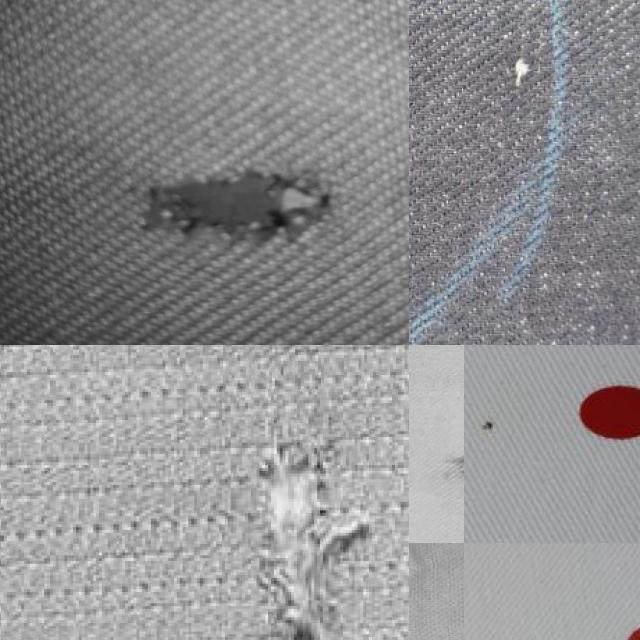Hole: (464, 391, 515, 463)
Thread_other: (409, 0, 485, 202)
seam: (91, 99, 394, 328), (203, 389, 407, 640)
